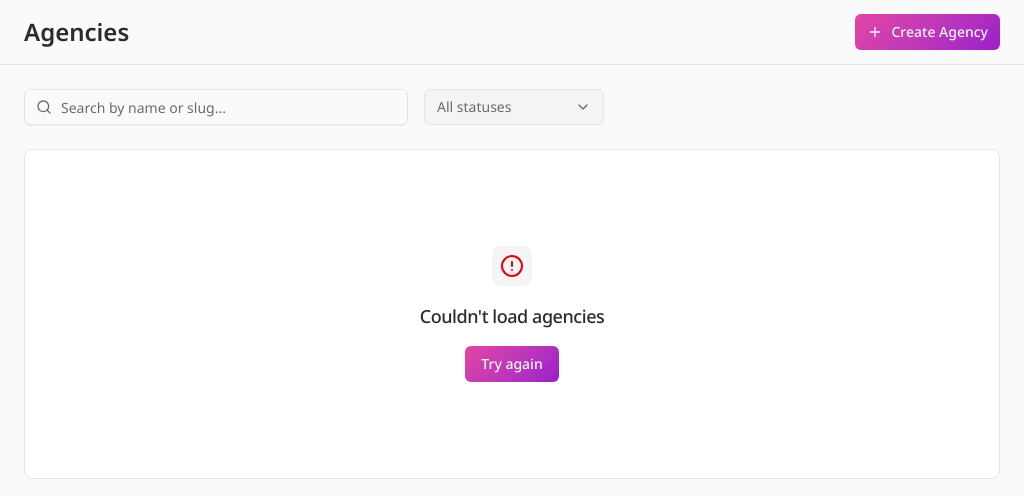
Test case: Ops agencies data loading › shows a retryable error state instead of an empty list when loading fails
Check: the heading "Couldn't load agencies" is shown, box [420, 302, 604, 330]
Click the button "Try again" at (512, 364), box [465, 346, 559, 382]
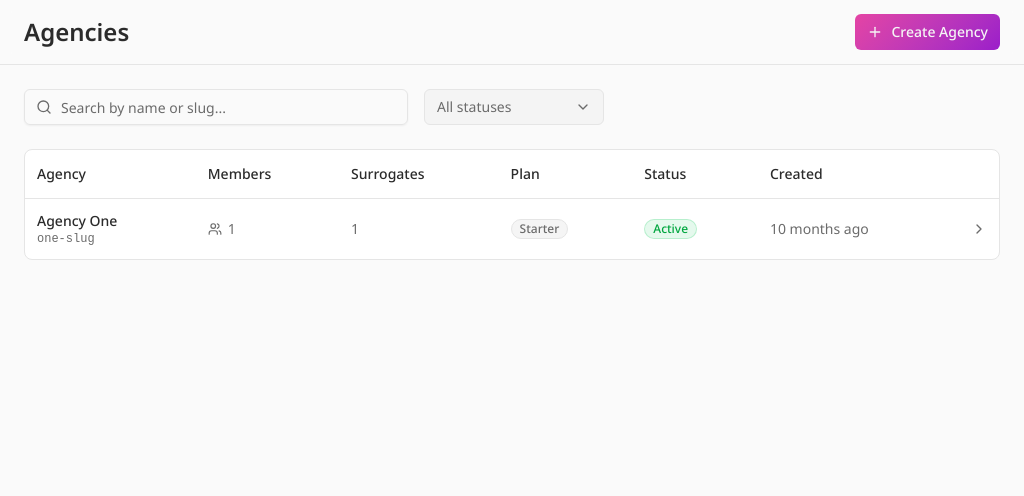
Check: the text "Agency One" is shown, box [37, 210, 117, 230]
